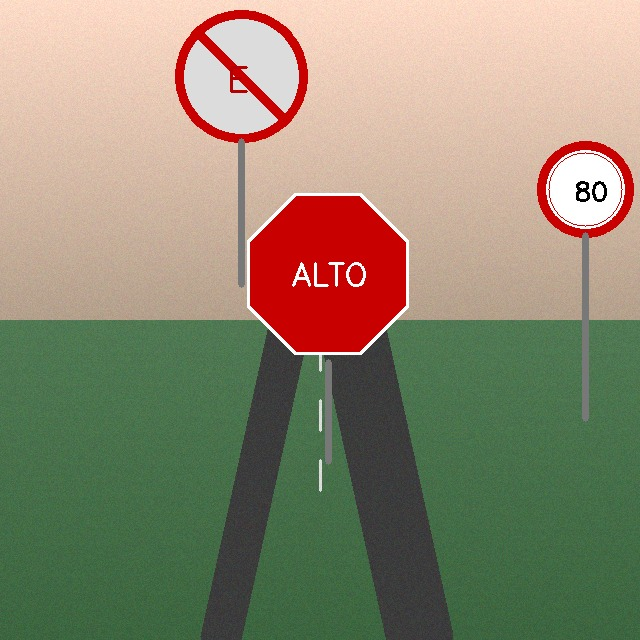alto: (240, 186, 416, 362)
no_estacionar: (177, 12, 306, 141)
velocidad: (539, 143, 631, 235)
